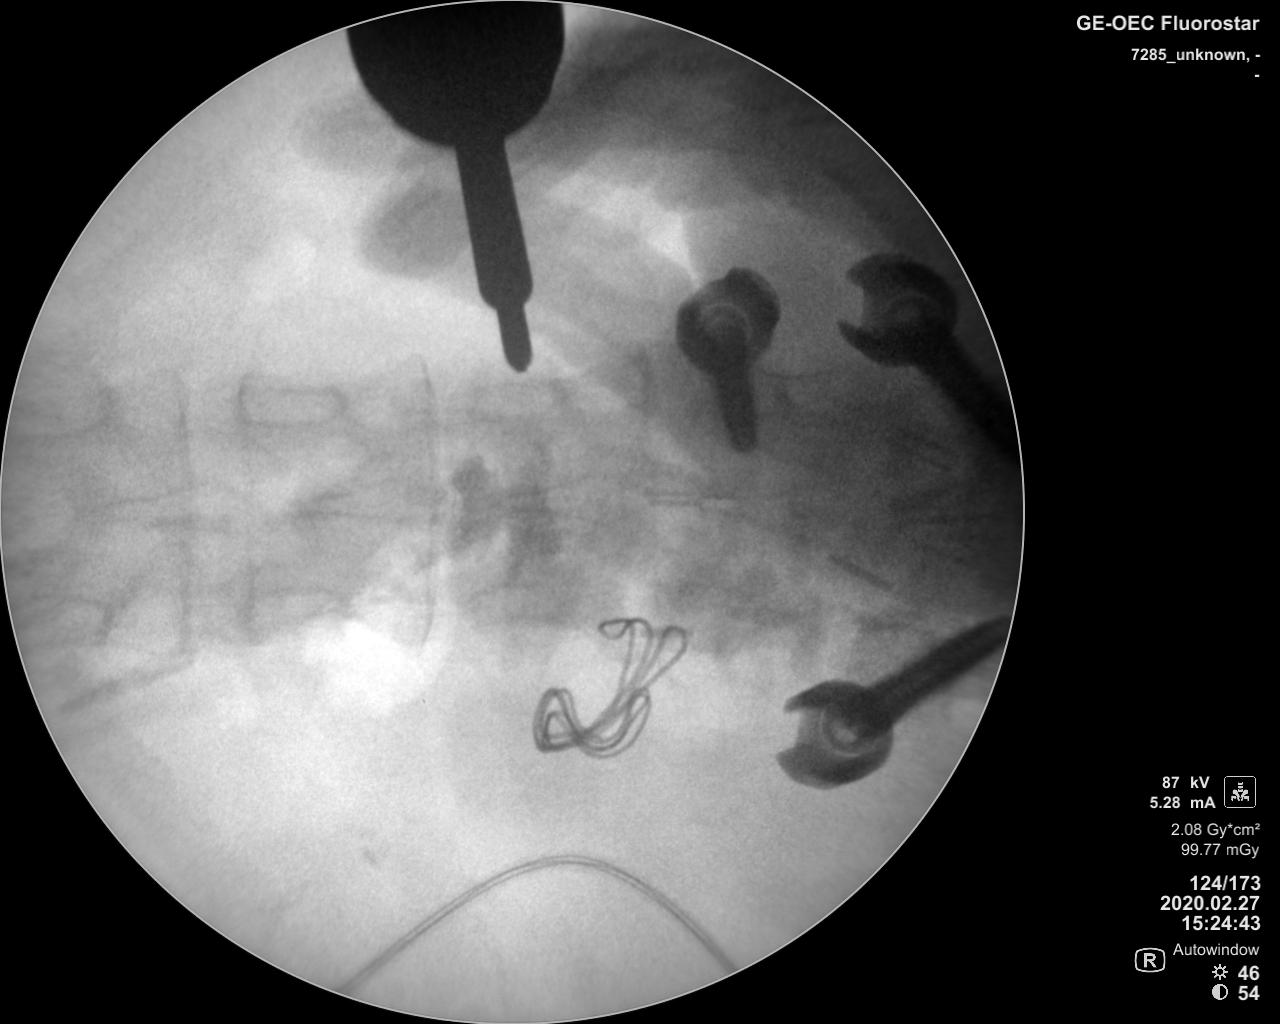eyes: (15, 365, 117, 445), (232, 380, 348, 426), (467, 381, 563, 424), (462, 585, 569, 622), (248, 582, 344, 623)
line: (161, 370, 197, 668), (406, 353, 439, 662), (227, 372, 262, 652)
nose: (288, 471, 441, 527), (88, 481, 236, 533), (491, 473, 644, 523), (692, 484, 808, 535)
